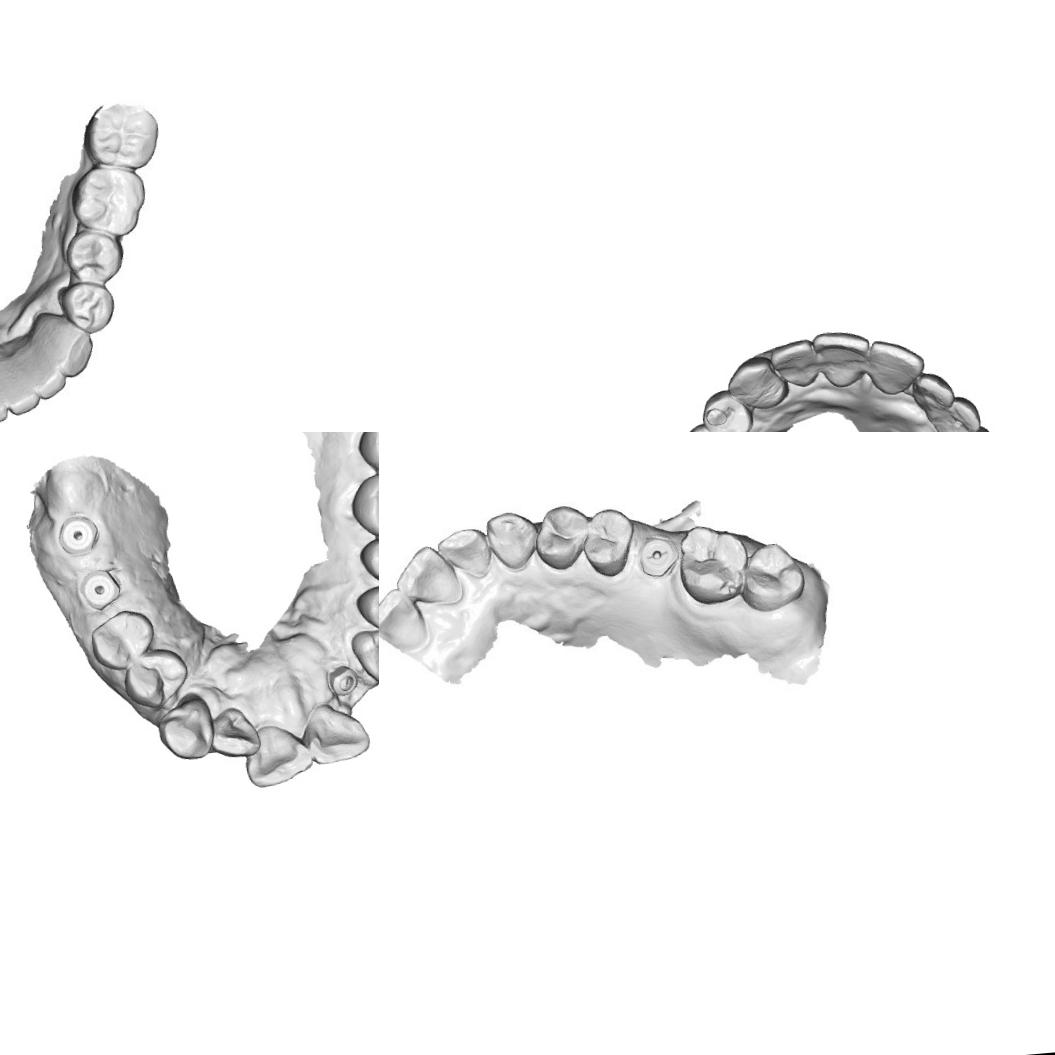canine: (32, 306, 98, 381), (154, 693, 216, 762), (724, 352, 790, 413), (485, 506, 536, 576), (929, 393, 982, 432), (348, 625, 379, 685)
implant: (76, 566, 121, 612), (56, 512, 100, 556), (324, 660, 360, 698)
implant_minus: (636, 536, 681, 576)
incisor: (298, 697, 372, 766), (242, 720, 314, 788), (395, 542, 464, 606), (809, 328, 873, 390), (8, 330, 64, 397), (866, 335, 926, 397), (206, 704, 262, 760), (434, 524, 488, 579), (0, 338, 38, 413), (379, 583, 423, 647), (768, 337, 818, 390), (910, 369, 956, 414)
molar: (72, 160, 150, 239), (79, 95, 158, 171), (676, 524, 750, 604), (737, 537, 804, 613), (346, 468, 379, 544), (352, 432, 379, 484)
premolar: (86, 606, 156, 672), (120, 644, 190, 710), (580, 505, 633, 580), (62, 227, 128, 285), (528, 502, 582, 569), (62, 280, 116, 329), (698, 386, 754, 432), (352, 580, 379, 637), (356, 533, 379, 589), (676, 419, 738, 432)
